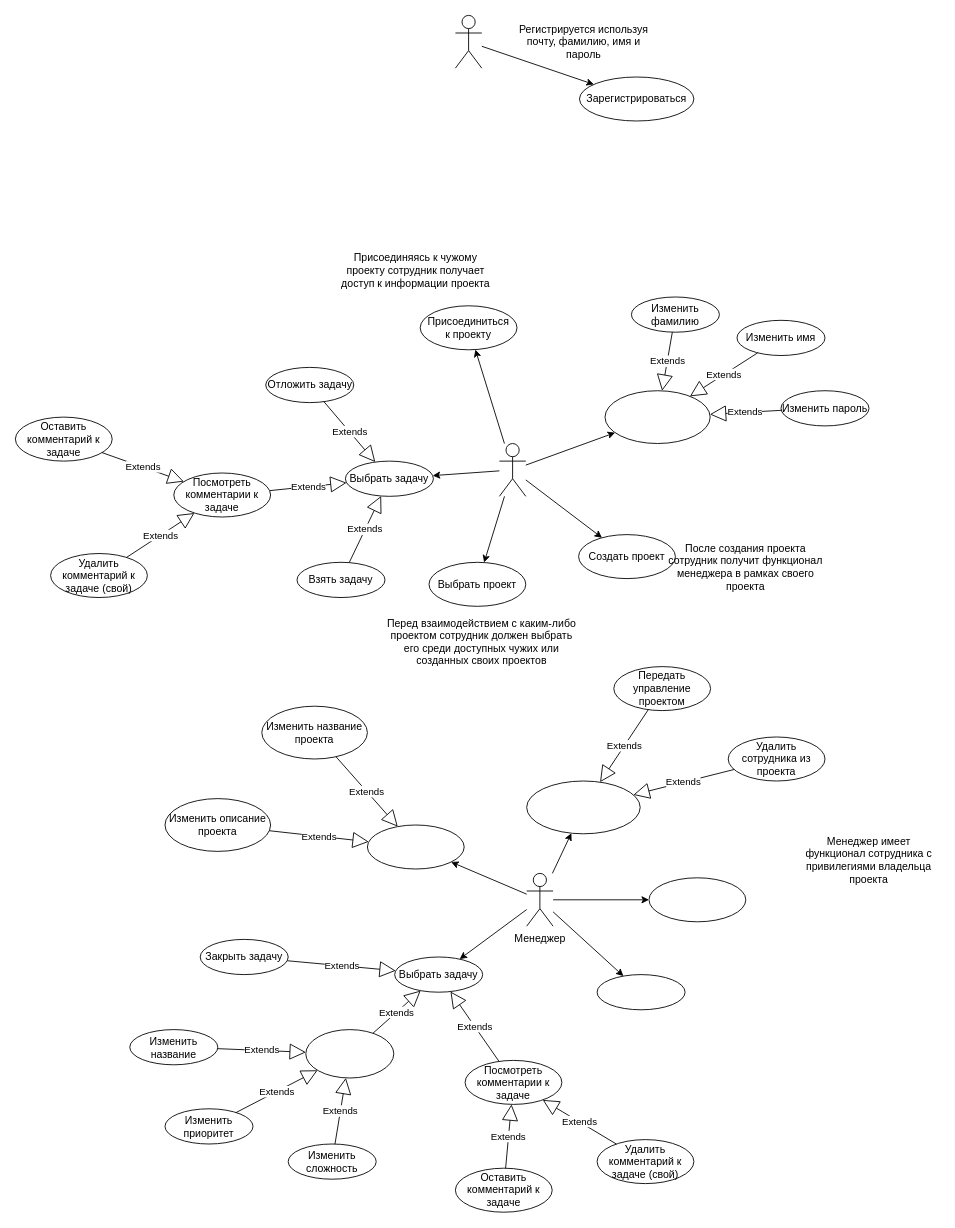
The diagram is 955 pixels wide and 1228 high, and some of its shapes have lost their labels. Each missing label, with the box of its shape:
Выбрать сотрудника проекта: (526, 780, 640, 834)
Завершить проект: (648, 877, 746, 922)
Незарегестрированный пользователь: (455, 15, 482, 68)
Редактировать задачу: (305, 1029, 394, 1078)
Редактировать персональные данные: (604, 390, 710, 444)
Редактировать проект: (367, 824, 464, 869)
Создать задачу: (596, 974, 685, 1010)
Сотрудник: (499, 443, 526, 496)
